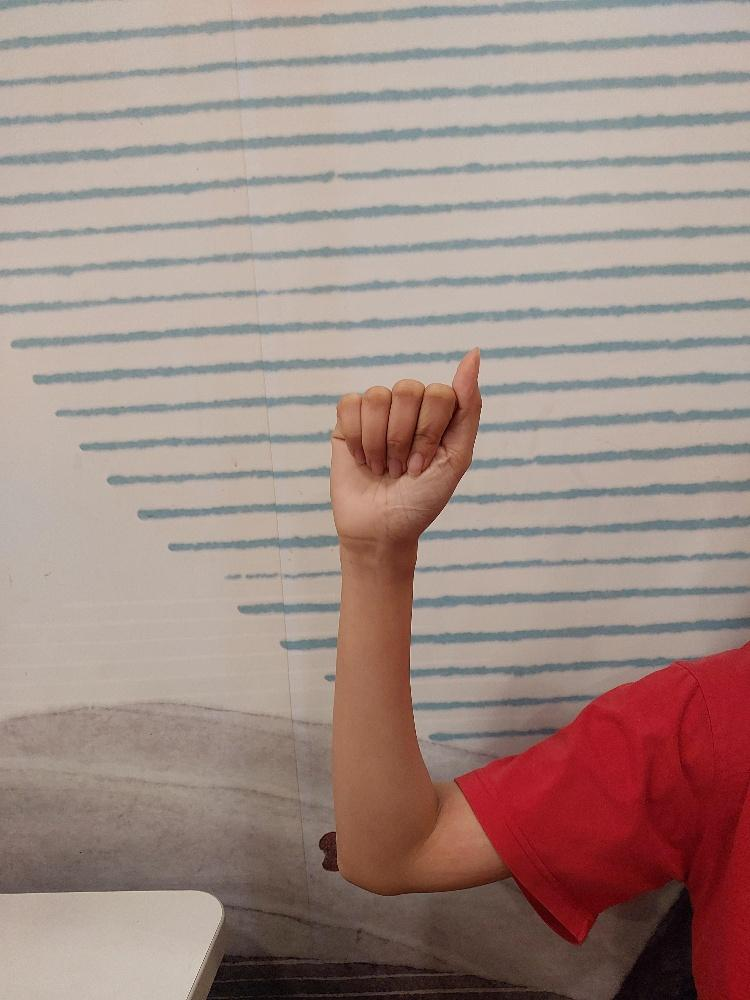a: (328, 343, 485, 548)
